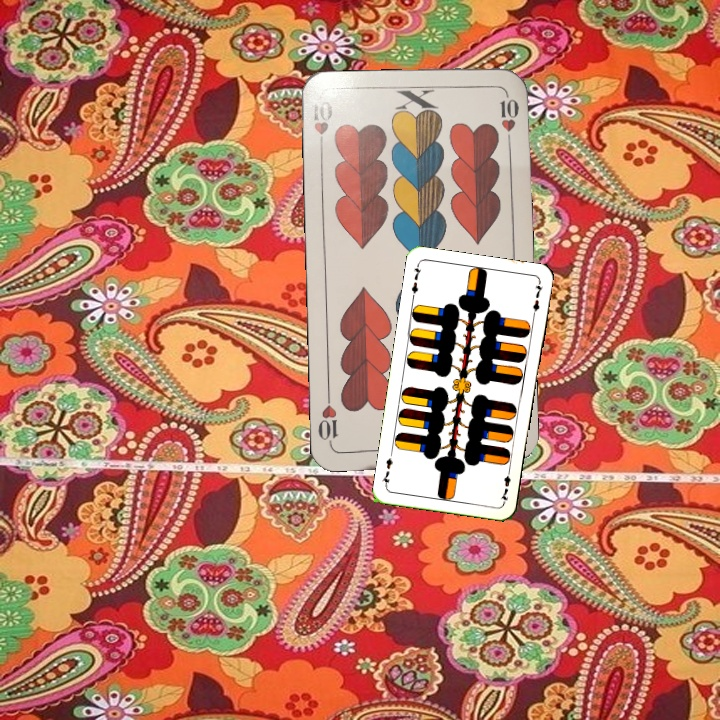E7: (496, 464, 513, 505), (407, 261, 424, 301)
H10: (308, 97, 335, 155)
